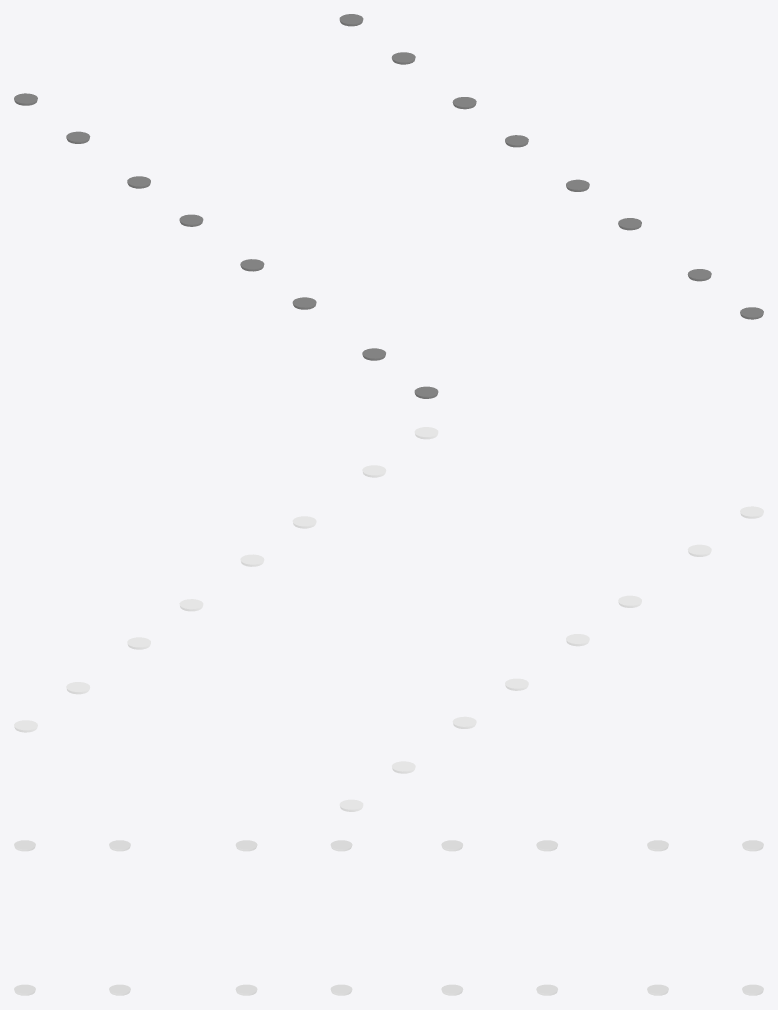
File: CeilingLights_250d72d8.obj
3 views of the same model, one above another, from view 1: azimuth 30°, elevation 25°; view 2: azimuth 150°, elevation 25°; view 3: azimuth 270°, elevation 25° (orthographic). The views are drawn at different scales.
Parts seen in each view (by area): view 1: CeilingLights_250d72d8; view 2: CeilingLights_250d72d8; view 3: CeilingLights_250d72d8.
Part boxes in pixels (x1,y1,x2,y2): CeilingLights_250d72d8: [14, 14, 763, 398]; CeilingLights_250d72d8: [14, 427, 763, 811]; CeilingLights_250d72d8: [14, 840, 763, 995].
Bounding box in the file's own units: 2.45 × 0.023 × 5.05.
